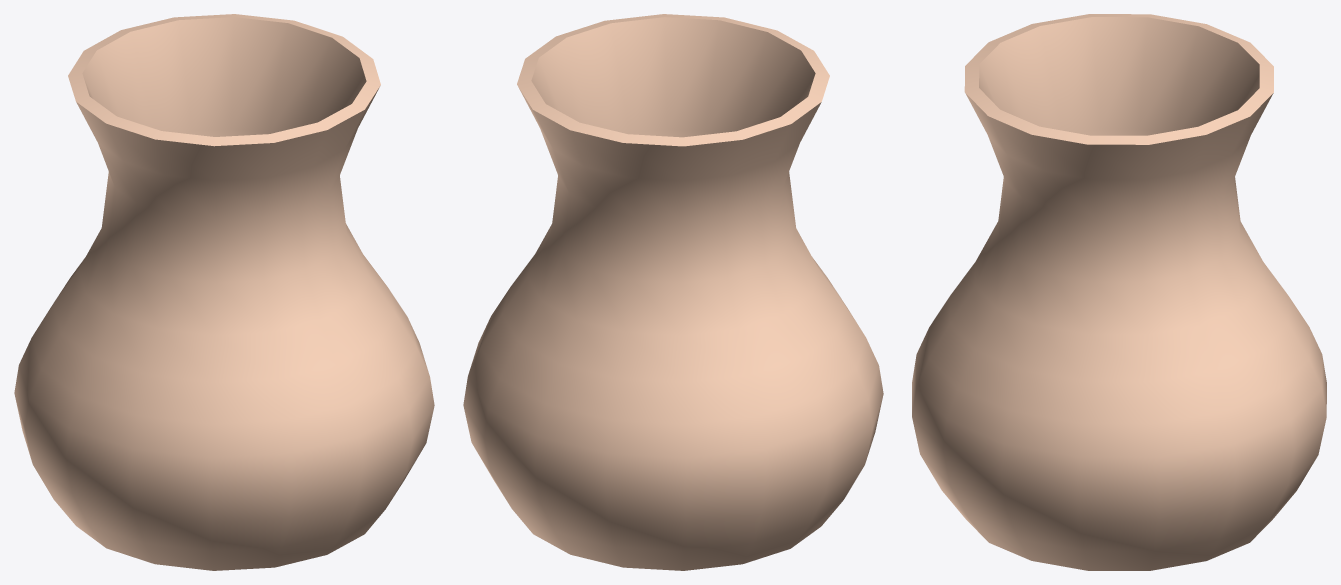
Rendered from Vase Long.fbx.
3 views of the same model, side by side, from view 1: azimuth 30°, elevation 25°; view 2: azimuth 150°, elevation 25°; view 3: azimuth 270°, elevation 25° (orthographic).
Parts seen in each view (by area): view 1: Pot Slim.003; view 2: Pot Slim.003; view 3: Pot Slim.003.
Part boxes in pixels (left/top/right/bottom): Pot Slim.003: left=14, top=14, right=434, bottom=570; Pot Slim.003: left=463, top=14, right=883, bottom=570; Pot Slim.003: left=912, top=14, right=1326, bottom=570.
Bounding box in the file's own units: 70.33 × 80.35 × 70.33.
